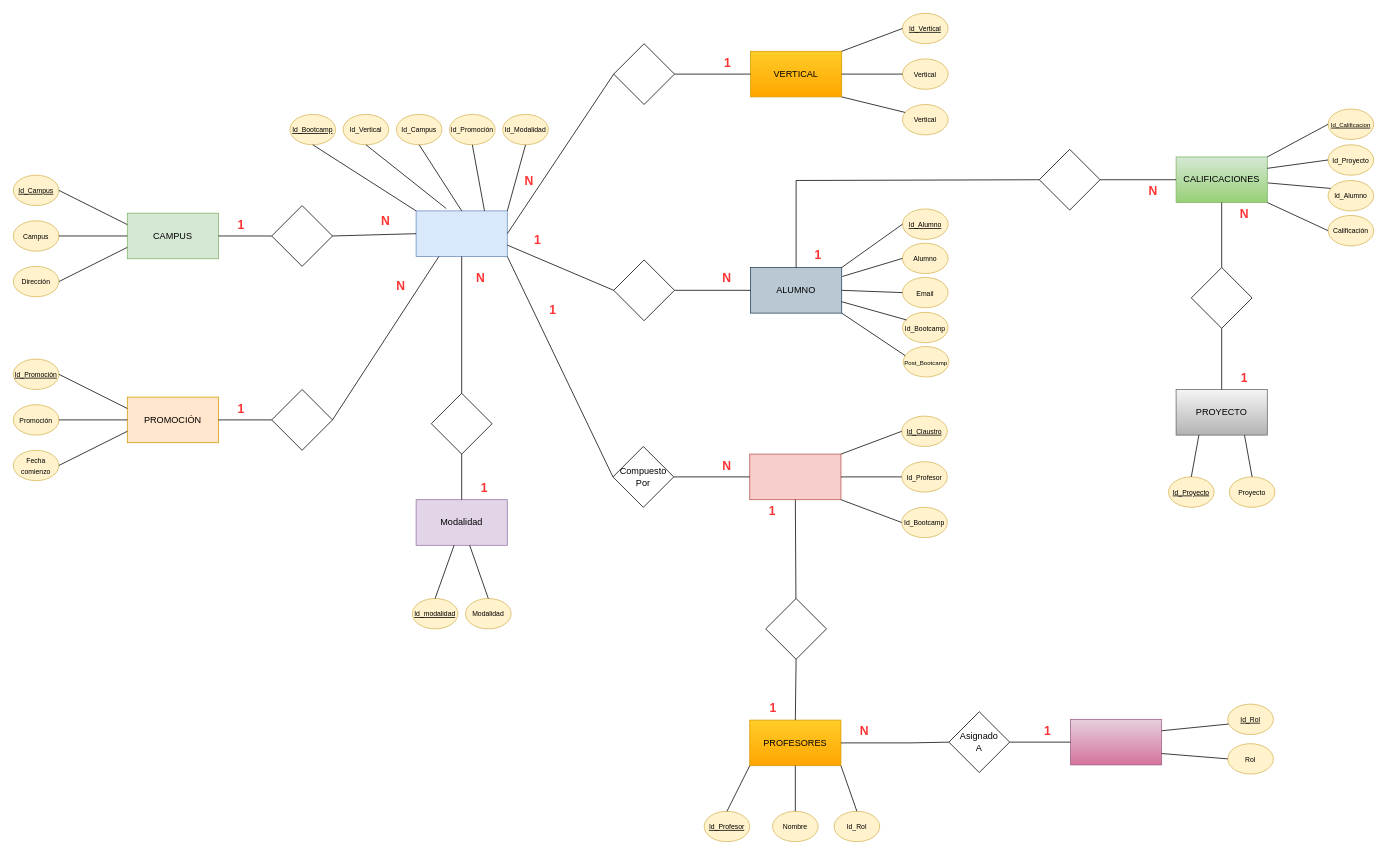
This 1387x855 diagram has some shape labels left out. Here are the shapes that lost their labels. From the top down, the centre of each, then its label:
At point (643, 73): "Cursa".
At point (1069, 179): "Obtendrá".
At point (301, 235): "Dentro De".
At point (461, 233): "BOOTCAMP".
At point (643, 290): "Se Inscriben".
At point (1221, 297): "Valorado".
At point (301, 419): "Se Realiza".
At point (461, 423): "Tienen".
At point (795, 476): "CLAUSTRO".
At point (795, 628): "Formado Por".
At point (1116, 742): "ROLES".
